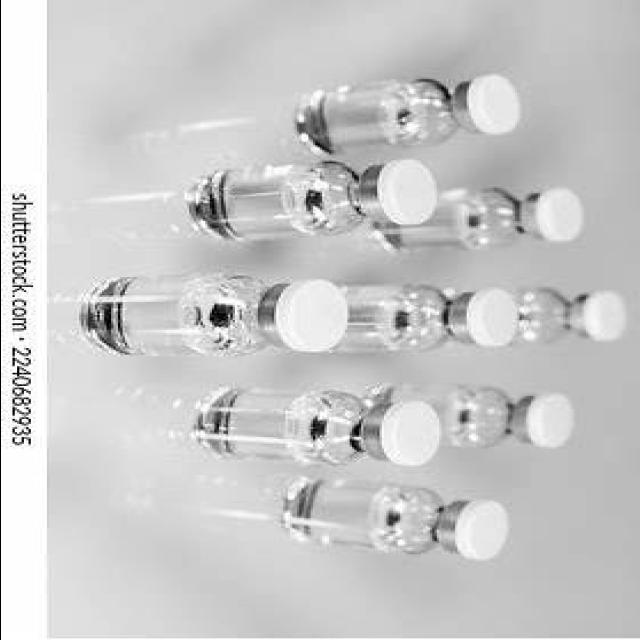vial: (376, 398, 464, 464), (276, 281, 352, 345), (442, 498, 512, 564), (384, 155, 434, 245), (449, 287, 512, 351), (469, 73, 522, 148), (511, 394, 575, 456), (576, 284, 628, 352), (522, 194, 582, 246)
